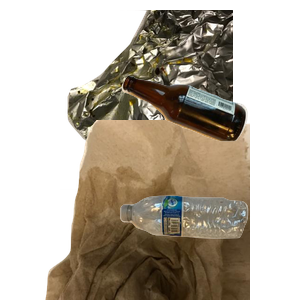glass: (119, 73, 300, 207)
metal: (60, 10, 300, 190)
plastic: (118, 193, 300, 300)
trash: (43, 120, 283, 300)
